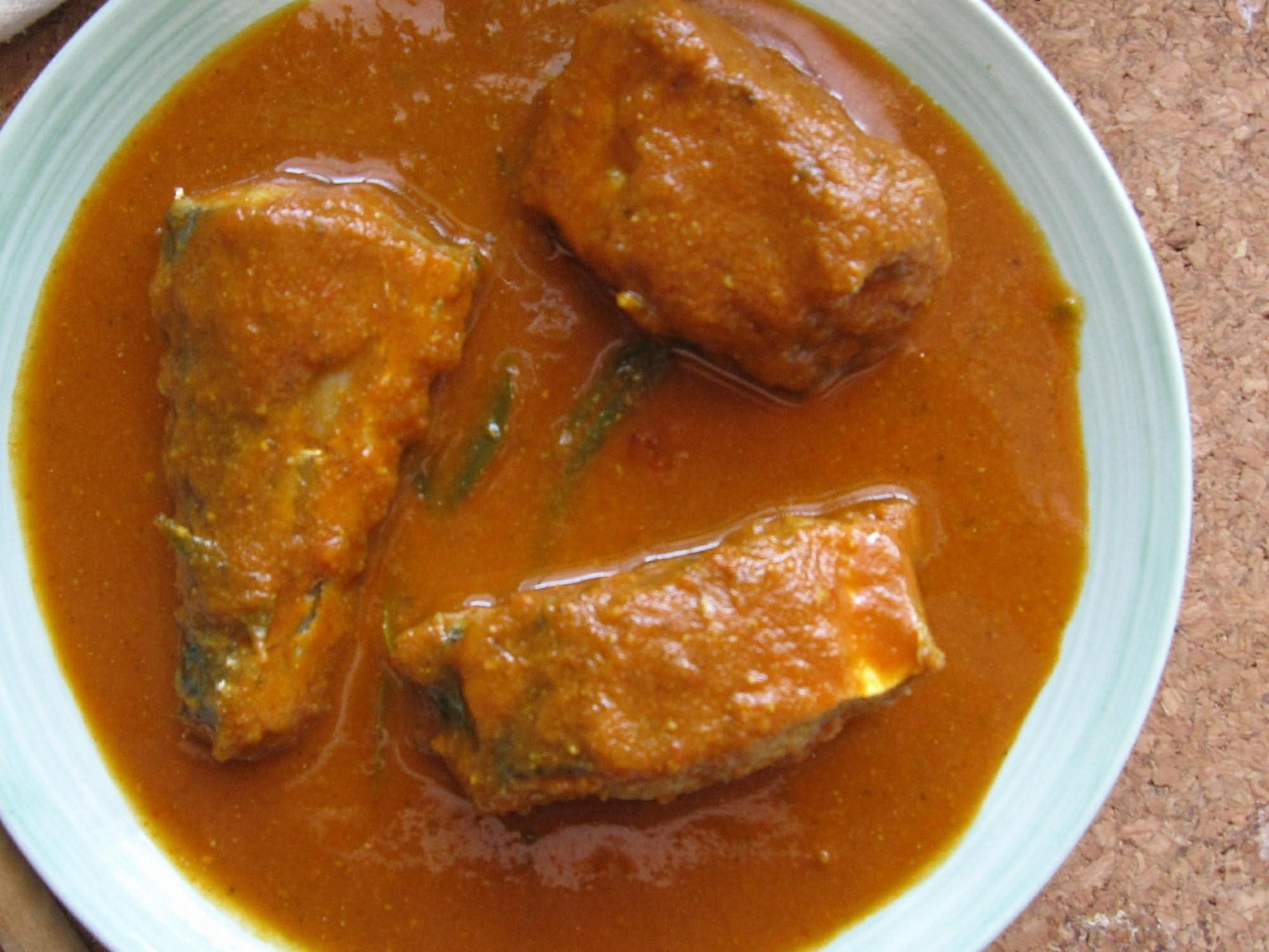FishCurry: (20, 0, 1086, 952)
